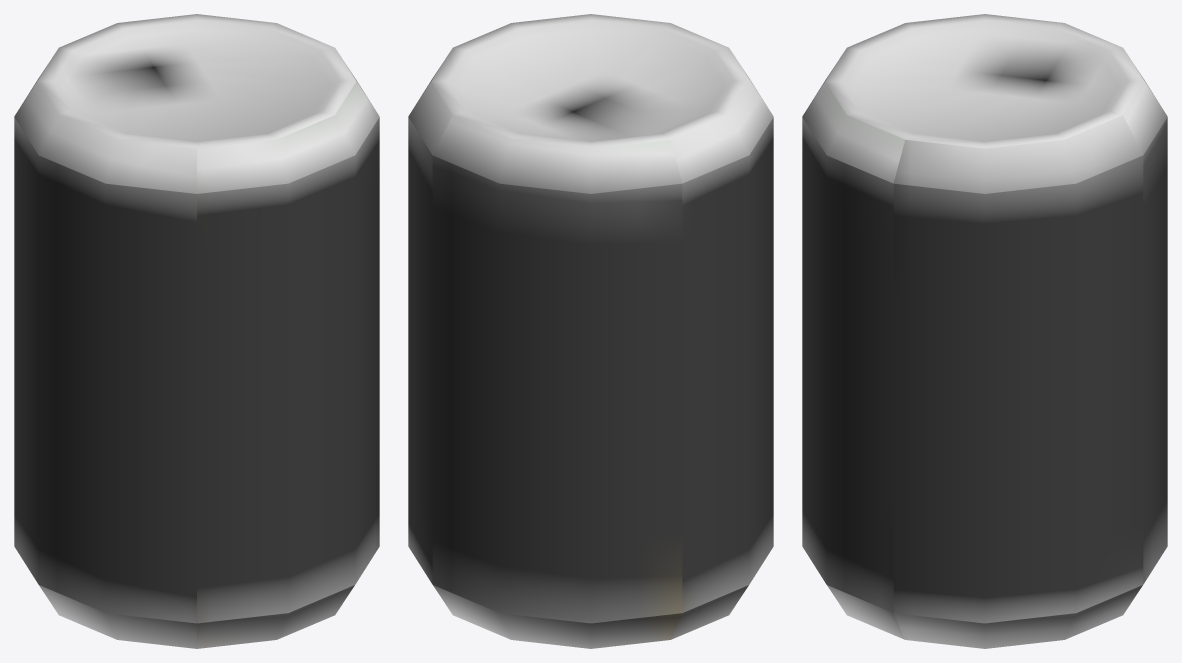
File: Can3.fbx
3 renders of one model, left to right at view 1: azimuth 30°, elevation 25°; view 2: azimuth 150°, elevation 25°; view 3: azimuth 270°, elevation 25°, orthographic.
Parts seen in each view (by area): view 1: Can3; view 2: Can3; view 3: Can3.
Boxes of the visible parts, bbox=[...] form: Can3: bbox=[14, 14, 379, 648]; Can3: bbox=[408, 14, 773, 648]; Can3: bbox=[802, 14, 1167, 648].
Bounding box in the file's own units: 5.72 × 8.63 × 5.72.
